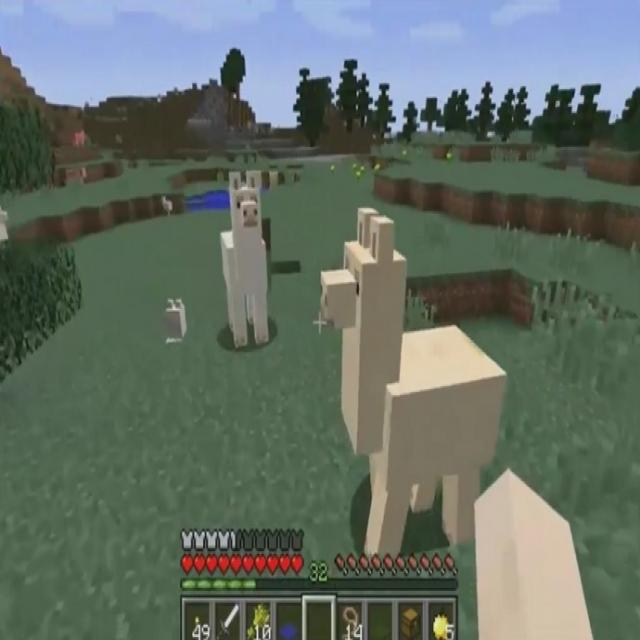Llama: (318, 202, 509, 564), (220, 166, 267, 354)
